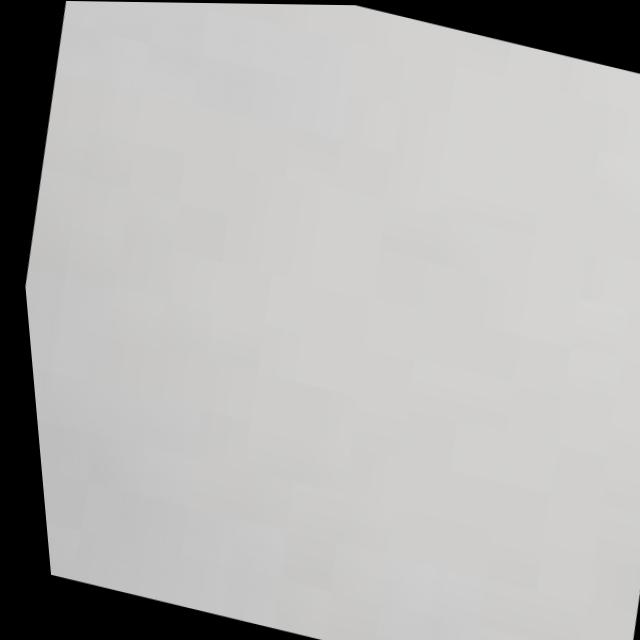metal-plates: (21, 2, 640, 640)
